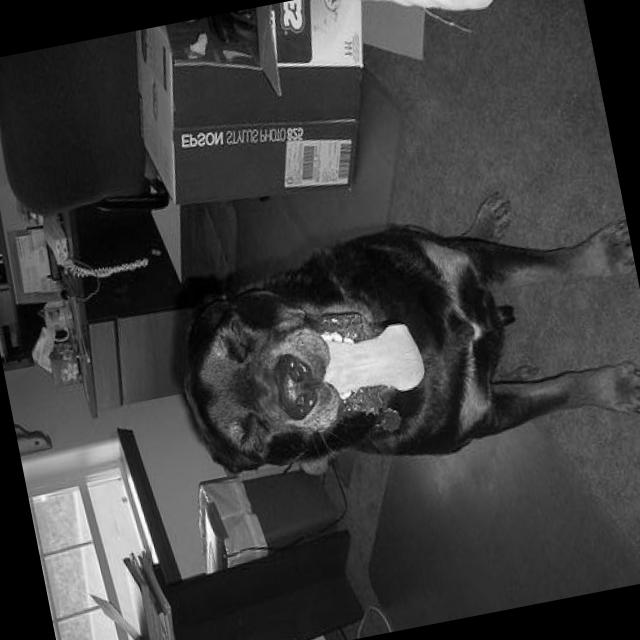sitting: (150, 162, 640, 525)
